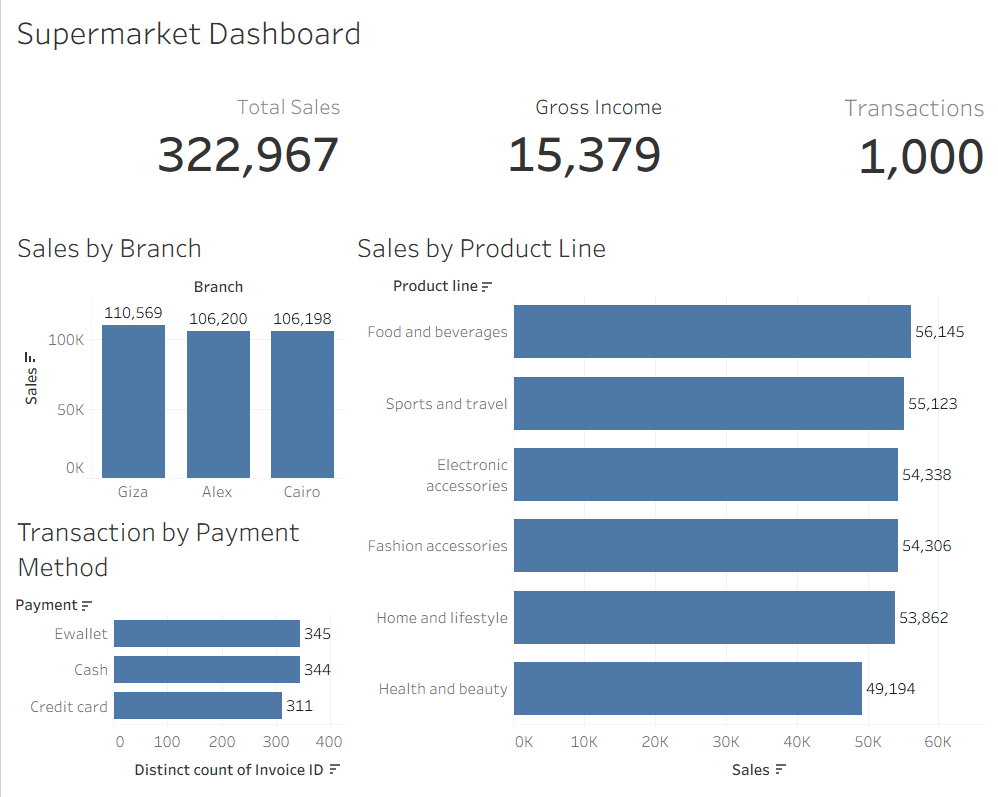

This screenshot's page, from the dashboard's own definition file:
{"tool":"tableau","page":{"name":"Supermarket Dashboard","canvas":[1000,800],"ordinal":0},"visuals":[{"type":"title","box":[8,8,984,50]},{"type":"worksheet","title":"Total Sales","mark":"Automatic","box":[8,58,340,164.8]},{"type":"worksheet","title":"Gross Income","mark":"Automatic","box":[348,58,322,164.8]},{"type":"worksheet","title":"Transactions","mark":"Automatic","box":[670,58,322,164.8]},{"type":"worksheet","title":"Branch Performance","mark":"Bar","rows":["Sales"],"cols":["Branch"],"box":[8,222.8,340,284.6]},{"type":"worksheet","title":"Product Line Performance","mark":"Automatic","rows":["Product line"],"cols":["Sales"],"box":[348,222.8,644,569.2]},{"type":"worksheet","title":"Payment Methods","mark":"Automatic","rows":["Payment"],"cols":["Invoice ID"],"box":[8,507.4,340,284.6]}]}

Visuals, with their boxes in screenshot pixels (x1, y1, x2, y2), scaled from the page's 1000x800 canvas onto the 998x797 screenshot:
title: [left=8, top=8, right=990, bottom=58]
"Total Sales" worksheet: [left=8, top=58, right=347, bottom=222]
"Gross Income" worksheet: [left=347, top=58, right=669, bottom=222]
"Transactions" worksheet: [left=669, top=58, right=990, bottom=222]
"Branch Performance" worksheet (Bar marks): [left=8, top=222, right=347, bottom=505]
"Product Line Performance" worksheet: [left=347, top=222, right=990, bottom=789]
"Payment Methods" worksheet: [left=8, top=505, right=347, bottom=789]
